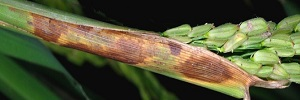RiceSheathBrownRot: (23, 9, 242, 88)
